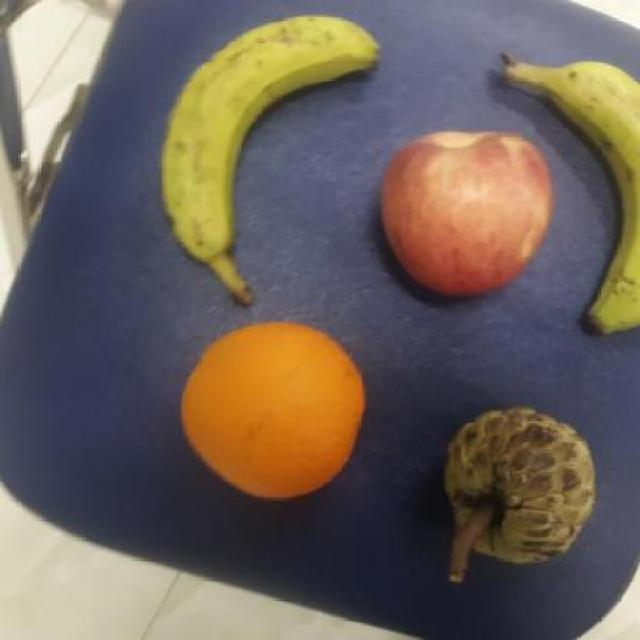apple: (376, 124, 556, 302)
banana: (537, 51, 640, 337)
guava: (153, 10, 384, 258)
oren: (179, 317, 367, 501)
sugar apple: (434, 405, 600, 573)
